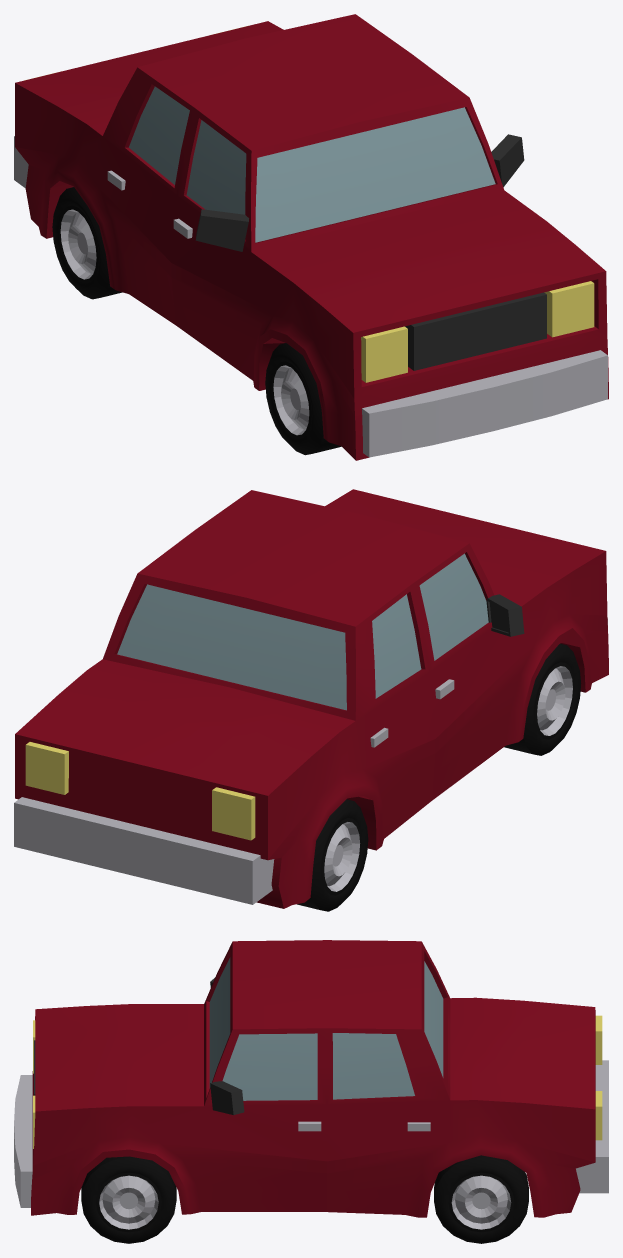
Rendered from TheCar_UVd.fbx.
The picture shows the model from 3 angles, top to bottom: view 1: azimuth 30°, elevation 25°; view 2: azimuth 150°, elevation 25°; view 3: azimuth 270°, elevation 25°; orthographic projection. The views are drawn at different scales.
Parts seen in each view (by area): view 1: pCube14; view 2: pCube14; view 3: pCube14.
Part boxes in pixels (x1,y1,x2,y2): pCube14: (14,14,608,460); pCube14: (14,489,608,911); pCube14: (14,940,608,1243).
Size of the model in its own units: 98.43 by 72.71 by 186.
1 material, 1 textured.
